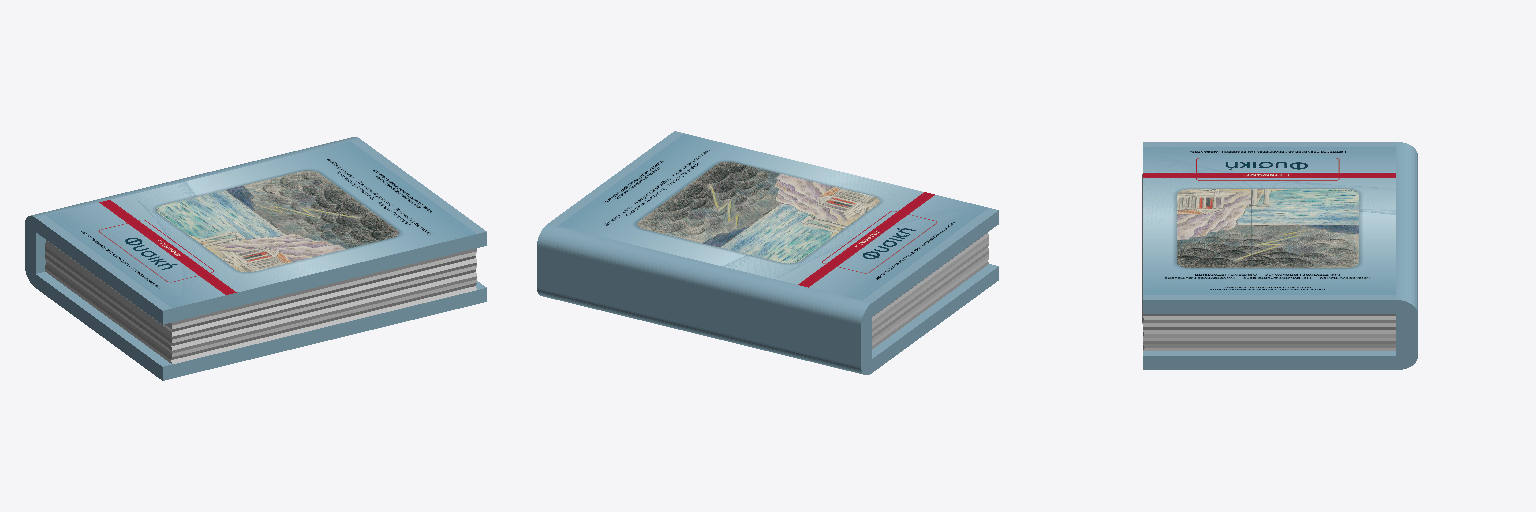
3 views of the same model, side by side, from view 1: azimuth 30°, elevation 25°; view 2: azimuth 150°, elevation 25°; view 3: azimuth 270°, elevation 25° (orthographic).
Parts seen in each view (by area): view 1: Cube_3, Cube_1, Cube_2; view 2: Cube_3, Cube_1, Cube_2; view 3: Cube_3, Cube_1, Cube_2.
Part boxes in pixels (left/top/right/bottom): Cube_3: left=46, top=141, right=475, bottom=307; Cube_1: left=25, top=137, right=486, bottom=380; Cube_2: left=45, top=240, right=476, bottom=363; Cube_3: left=558, top=133, right=987, bottom=300; Cube_1: left=537, top=131, right=998, bottom=374; Cube_2: left=872, top=233, right=988, bottom=348; Cube_3: left=1143, top=147, right=1395, bottom=294; Cube_1: left=1143, top=142, right=1417, bottom=369; Cube_2: left=1142, top=174, right=1395, bottom=350.
Bounding box in the file's own units: 186 × 38.44 × 137.
Materials: 3 (2 with a texture image).